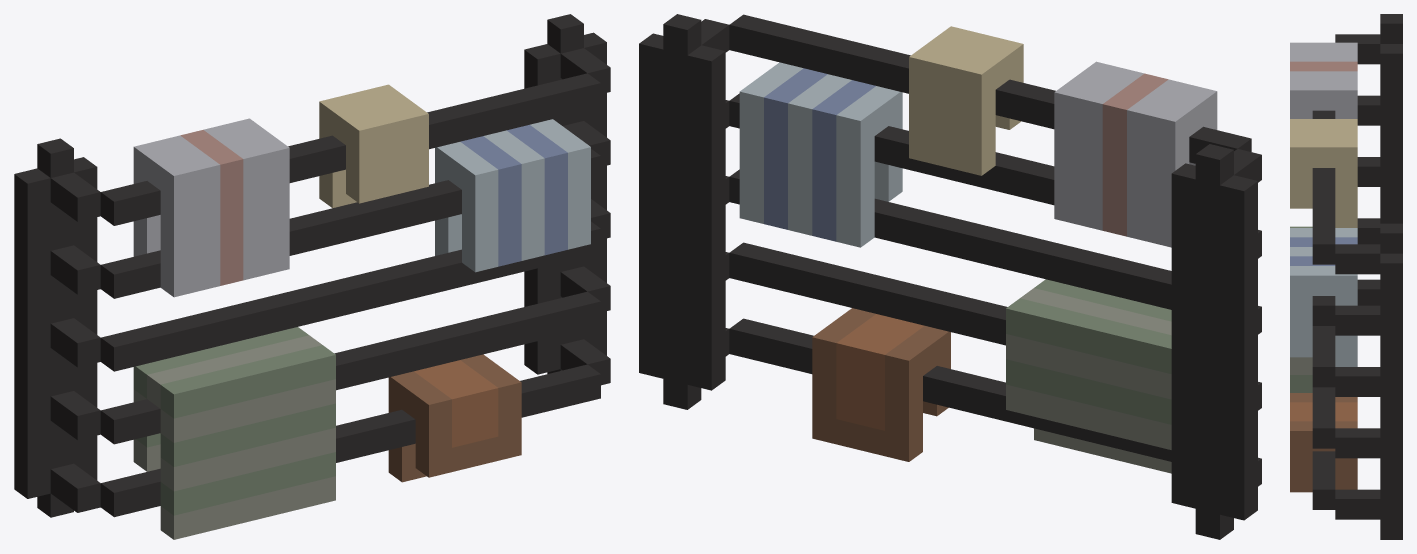
The model's file is Polotenca.obj.
3 views of the same model, side by side, from view 1: azimuth 30°, elevation 25°; view 2: azimuth 150°, elevation 25°; view 3: azimuth 270°, elevation 25° (orthographic). The views are drawn at different scales.
Size of the model in its own units: 2.5 by 1.6 by 0.5.
Materials: 1 (1 with a texture image).
